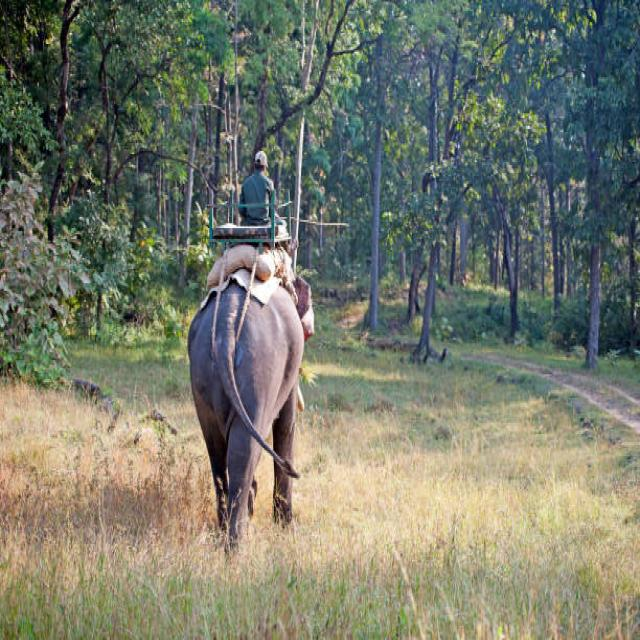Elephant: (182, 264, 318, 553)
